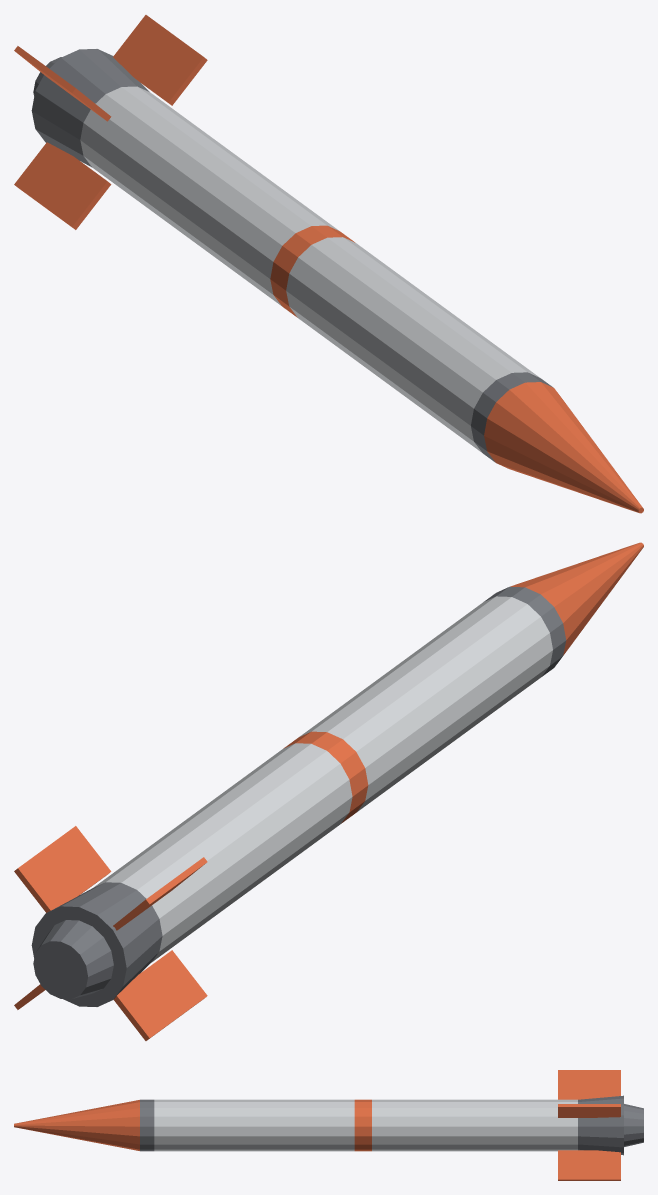
Rendered from Threat_Ballistic_01.fbx.
3 views of the same model, one above another, from view 1: azimuth 30°, elevation 25°; view 2: azimuth 150°, elevation 25°; view 3: azimuth 270°, elevation 25° (orthographic). The views are drawn at different scales.
Parts seen in each view (by area): view 1: Threat_Ballistic_01_Structure, Threat_Ballistic_01_Threat, Threat_Ballistic_01_Trim; view 2: Threat_Ballistic_01_Structure, Threat_Ballistic_01_Threat, Threat_Ballistic_01_Trim; view 3: Threat_Ballistic_01_Structure, Threat_Ballistic_01_Threat, Threat_Ballistic_01_Trim.
Boxes of the visible parts, <box> form: Threat_Ballistic_01_Structure: <box>80,86,539,452</box>; Threat_Ballistic_01_Threat: <box>14,15,643,513</box>; Threat_Ballistic_01_Trim: <box>31,49,553,462</box>; Threat_Ballistic_01_Structure: <box>93,596,552,962</box>; Threat_Ballistic_01_Threat: <box>14,542,643,1040</box>; Threat_Ballistic_01_Trim: <box>31,586,566,1006</box>; Threat_Ballistic_01_Structure: <box>154,1099,577,1151</box>; Threat_Ballistic_01_Threat: <box>14,1070,620,1180</box>; Threat_Ballistic_01_Trim: <box>140,1095,643,1155</box>.
Bounding box in the file's own units: 1.48 × 1.48 × 11.
